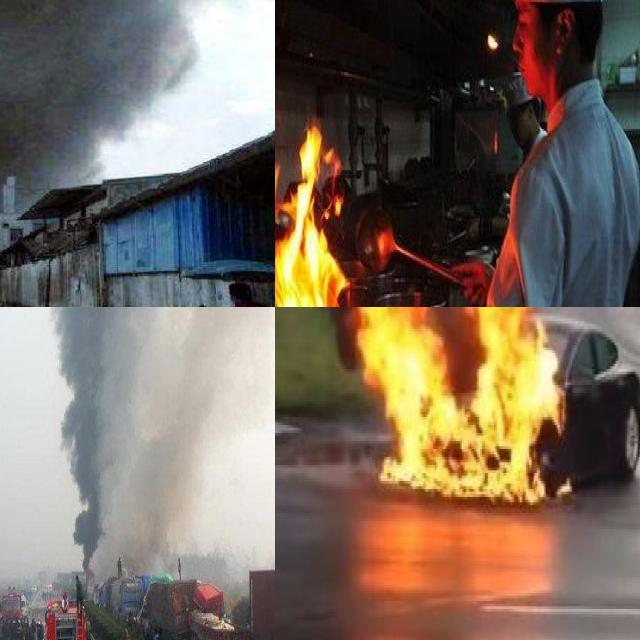fire: (347, 307, 565, 496), (275, 104, 350, 307)
smoke: (0, 0, 275, 233), (41, 307, 275, 573)
